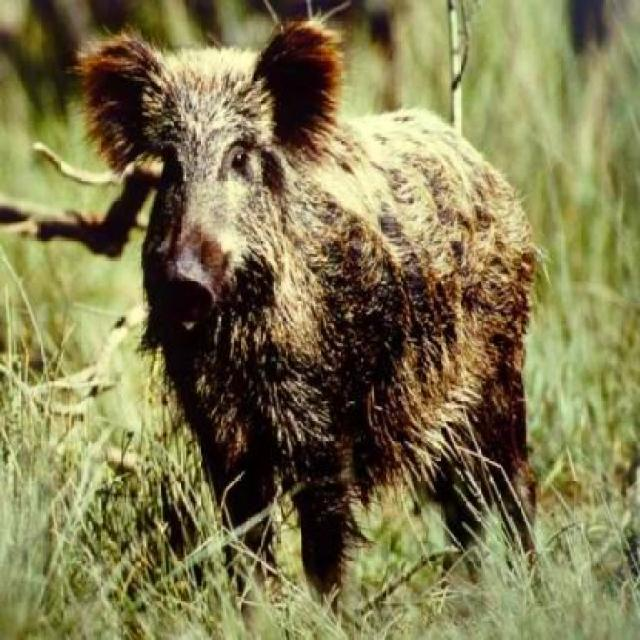Boar: (38, 0, 579, 625)
